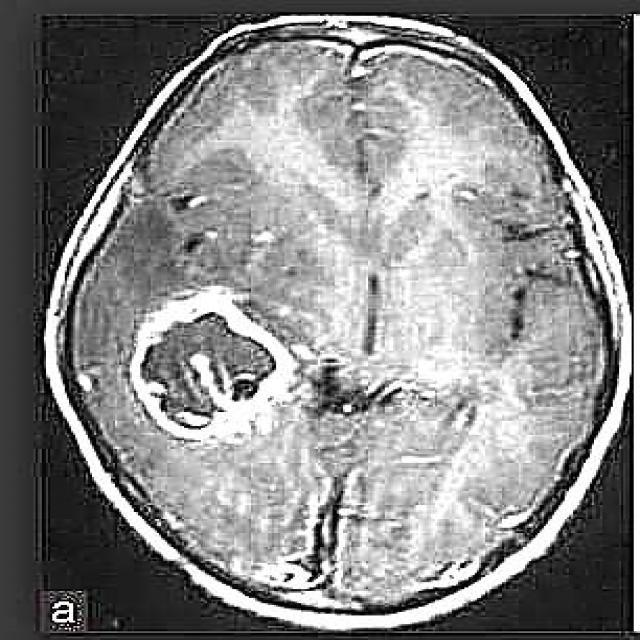Tumor: (122, 287, 295, 450)
